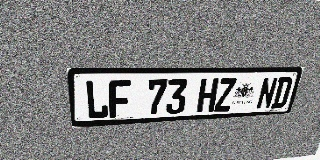3: (165, 79, 188, 115)
7: (146, 79, 168, 116)
D: (270, 77, 294, 108)
F: (108, 80, 130, 118)
H: (196, 78, 219, 113)
L: (84, 80, 109, 119)
N: (255, 77, 279, 109)
Z: (214, 78, 237, 112)
